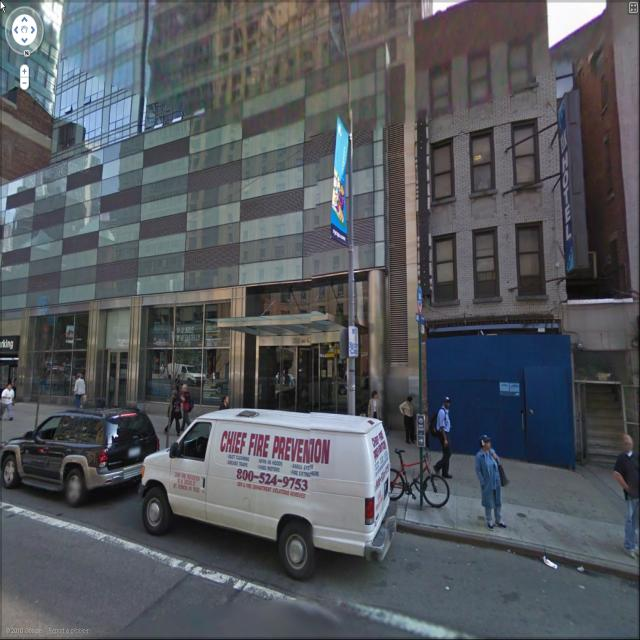b_1: (150, 2, 420, 434), (416, 2, 550, 424), (42, 4, 148, 161)
